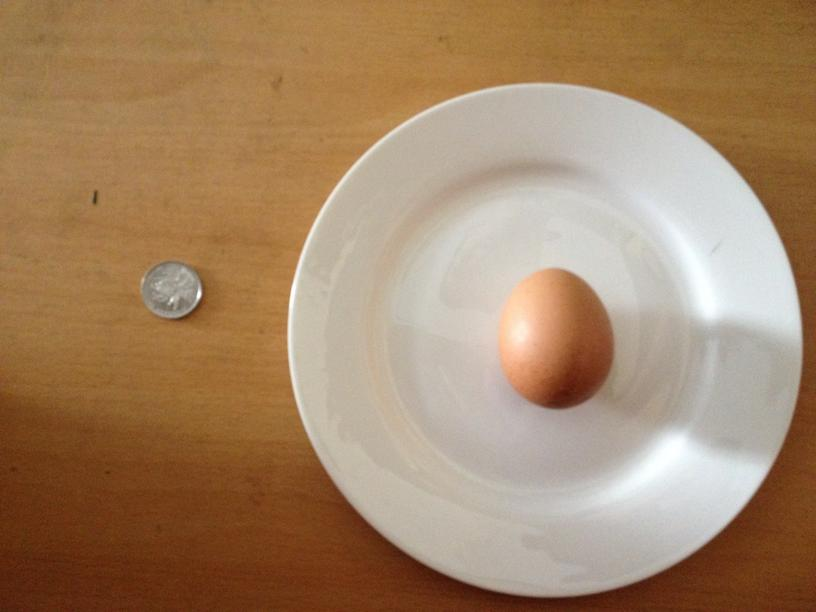coin: (141, 260, 202, 318)
egg: (502, 268, 612, 409)
